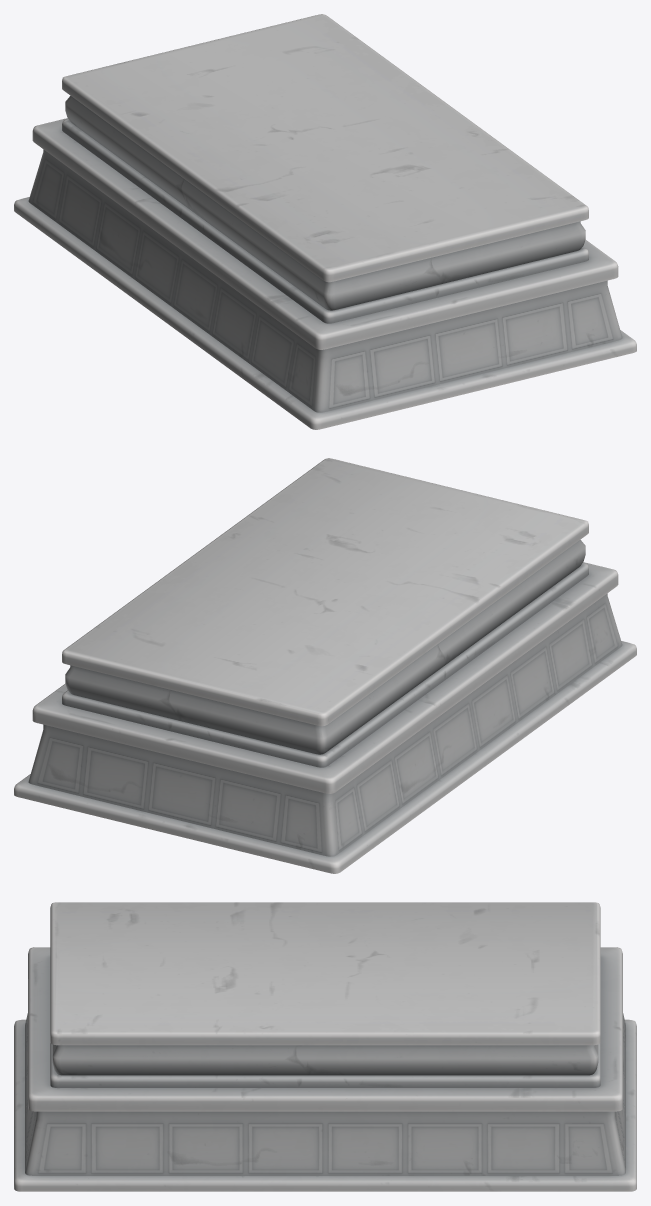
File: ParkPedestal01_1.FBX
3 views of the same model, one above another, from view 1: azimuth 30°, elevation 25°; view 2: azimuth 150°, elevation 25°; view 3: azimuth 270°, elevation 25° (orthographic). The views are drawn at different scales.
Visible parts, largest first — view 1: ParkPedestal01_1; view 2: ParkPedestal01_1; view 3: ParkPedestal01_1.
Boxes of the visible parts, bbox=[...] form: ParkPedestal01_1: bbox=[14, 14, 636, 429]; ParkPedestal01_1: bbox=[14, 458, 636, 873]; ParkPedestal01_1: bbox=[14, 902, 636, 1191].
Size of what is drawn, in the model's own units: 2.46 by 1 by 3.96.
